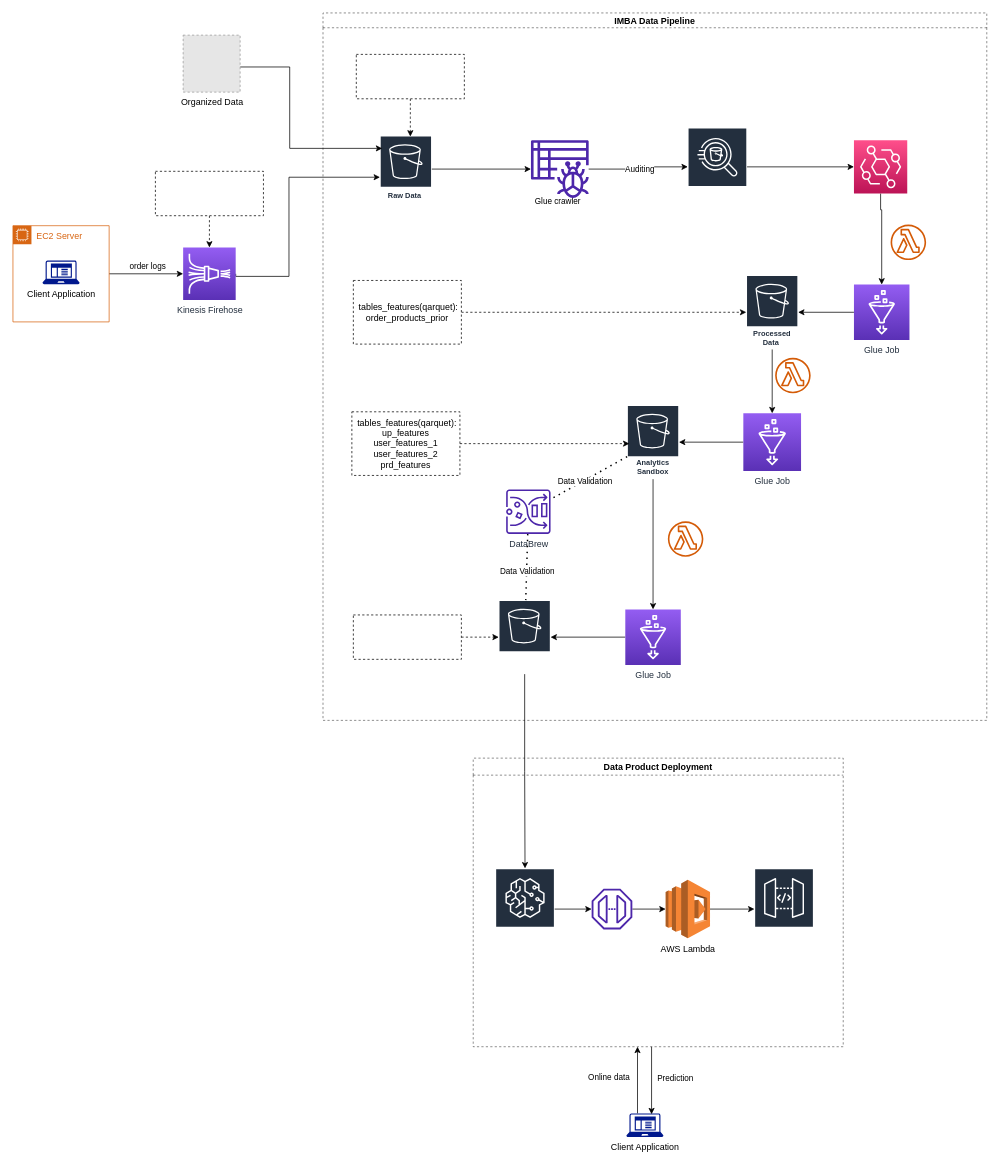
Some shapes in this 1000 by 1166 pixel diagram are drawn without their labels. Grey dashed boxes stand in for pictures. Each missing label, with the centre of its shape:
Amazon API Gateway: (x=784, y=909)
Amazon Athena: (x=717, y=166)
Amazon SageMaker: (x=525, y=909)
Curated Data: (x=524, y=636)
Endpoint: (x=611, y=908)
EventBridge: (x=880, y=166)
Raw tables (csv): orders, orders_products products, aisles, departments: (x=410, y=76)
Streaming data: orders, orders_products: (x=209, y=193)
table(csv): reasults: (x=407, y=636)
